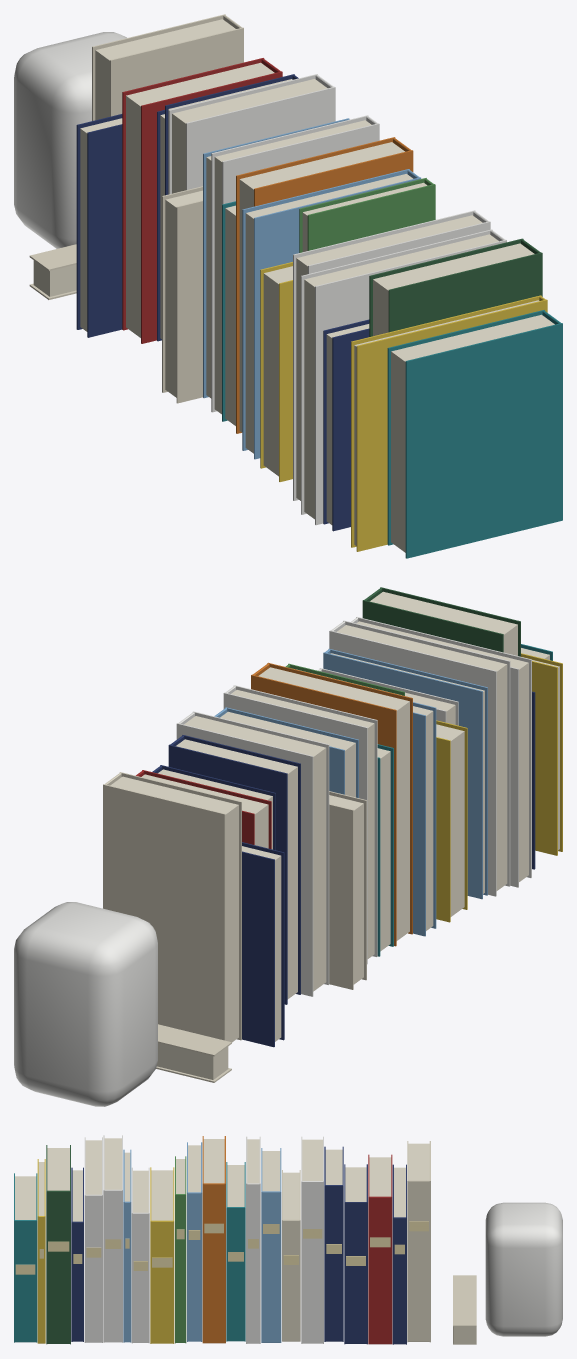
File: recwqo7UDaf7HlqTc.glb
3 views of the same model, one above another, from view 1: azimuth 30°, elevation 25°; view 2: azimuth 150°, elevation 25°; view 3: azimuth 270°, elevation 25° (orthographic). The views are drawn at different scales.
Visible parts, largest first — view 1: Livres_Bibliotheque_Corps; view 2: Livres_Bibliotheque_Corps; view 3: Livres_Bibliotheque_Corps.
Part boxes in pixels (box(x1,y1,x2,y2)): Livres_Bibliotheque_Corps: box(14, 14, 562, 558); Livres_Bibliotheque_Corps: box(14, 587, 562, 1106); Livres_Bibliotheque_Corps: box(14, 1135, 562, 1344).
Size of the model in its own units: 0.2367 by 0.301 by 0.922.
